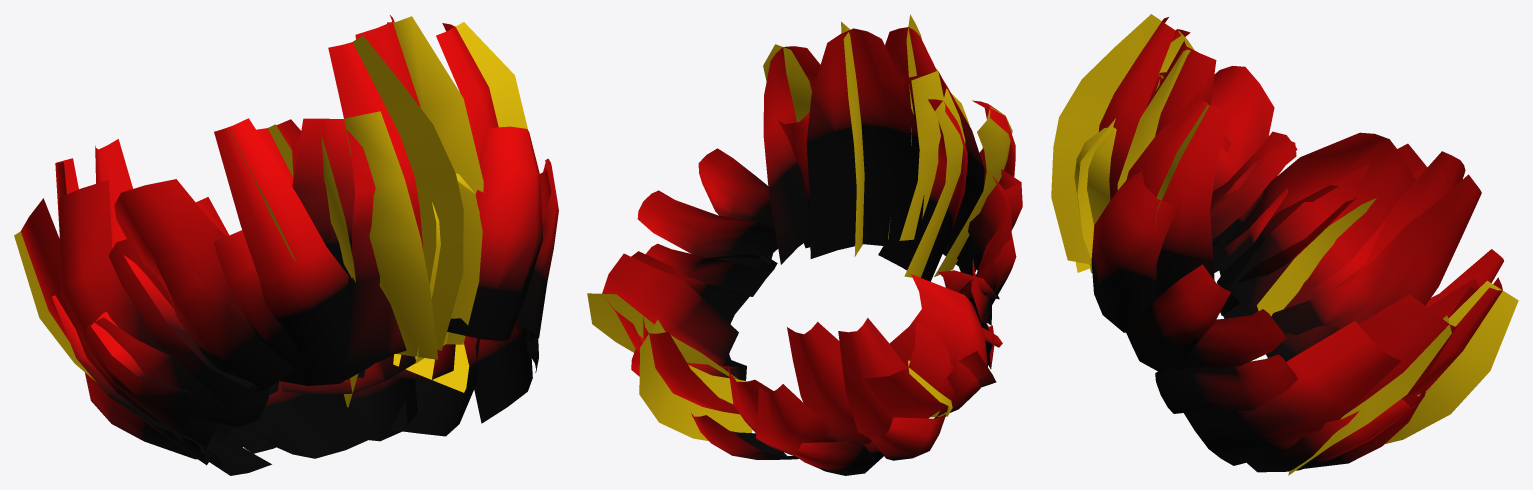
File: Hair_P1.fbx
The picture shows the model from 3 angles, left to right: view 1: azimuth 30°, elevation 25°; view 2: azimuth 150°, elevation 25°; view 3: azimuth 270°, elevation 25°; orthographic projection. The views are drawn at different scales.
Visible parts, largest first — view 1: Plane.061, Plane.066, Plane.004, Plane.072, Plane.083, Plane.077, Plane.110, Plane.108, Plane.005, Plane.102, Plane.070, Plane.109 (+17 smaller); view 2: Plane.005, Plane.070, Plane.104, Plane.064, Plane.073, Plane.004, Plane.100, Plane.098, Plane.092, Plane.083, Plane.111, Plane.008 (+18 smaller); view 3: Plane.079, Plane.061, Plane.100, Plane.070, Plane.098, Plane.083, Plane.072, Plane.008, Plane.075, Plane.111, Plane.077, Plane.104 (+14 smaller).
Part boxes in pixels (box(x1,y1,x2,y2)): Plane.061: box(328, 35, 463, 364); Plane.066: box(214, 118, 383, 385); Plane.004: box(292, 111, 438, 359); Plane.072: box(447, 126, 542, 340); Plane.083: box(58, 180, 188, 442); Plane.077: box(114, 179, 247, 320); Plane.110: box(84, 312, 279, 427); Plane.108: box(156, 253, 295, 392); Plane.005: box(355, 15, 483, 194); Plane.102: box(196, 197, 380, 458); Plane.070: box(436, 22, 527, 163); Plane.109: box(108, 238, 257, 410); Plane.005: box(806, 21, 924, 258); Plane.070: box(763, 44, 820, 264); Plane.104: box(602, 253, 738, 365); Plane.064: box(878, 88, 969, 281); Plane.073: box(637, 190, 777, 268); Plane.004: box(899, 68, 984, 265); Plane.100: box(787, 322, 871, 444); Plane.098: box(864, 322, 954, 418); Plane.092: box(838, 318, 906, 453); Plane.083: box(889, 274, 987, 367); Plane.111: box(639, 320, 762, 440); Plane.008: box(698, 148, 778, 265); Plane.079: box(1184, 321, 1401, 465); Plane.061: box(1051, 14, 1175, 264); Plane.100: box(1266, 174, 1481, 361); Plane.070: box(1126, 93, 1231, 319); Plane.098: box(1228, 143, 1427, 356); Plane.083: box(1212, 132, 1415, 308); Plane.072: box(1091, 165, 1180, 332); Plane.008: box(1125, 264, 1230, 372); Plane.075: box(1155, 354, 1297, 413); Plane.111: box(1385, 280, 1518, 443); Plane.077: box(1210, 66, 1274, 259); Plane.104: box(1345, 294, 1456, 414).
Bounding box in the file's own units: 279 × 290 × 296.
